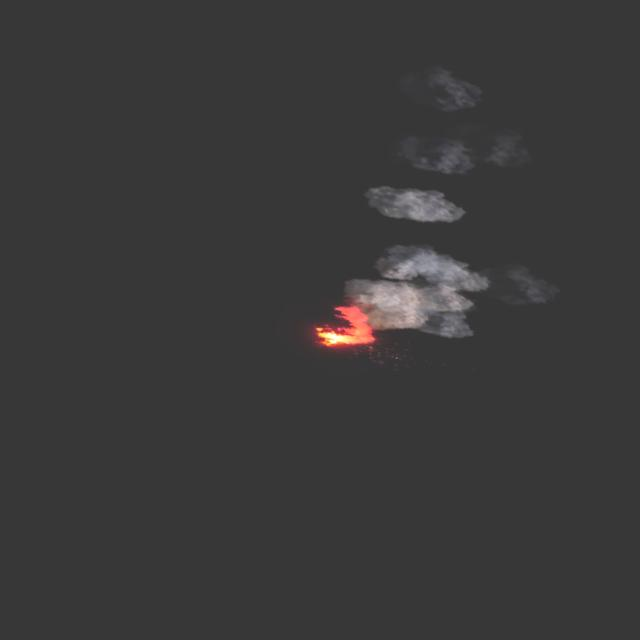fire: (312, 297, 386, 358)
smoke: (339, 235, 499, 356), (358, 176, 466, 238)
